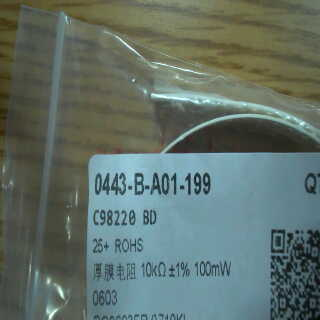10kR: (135, 255, 168, 287)
